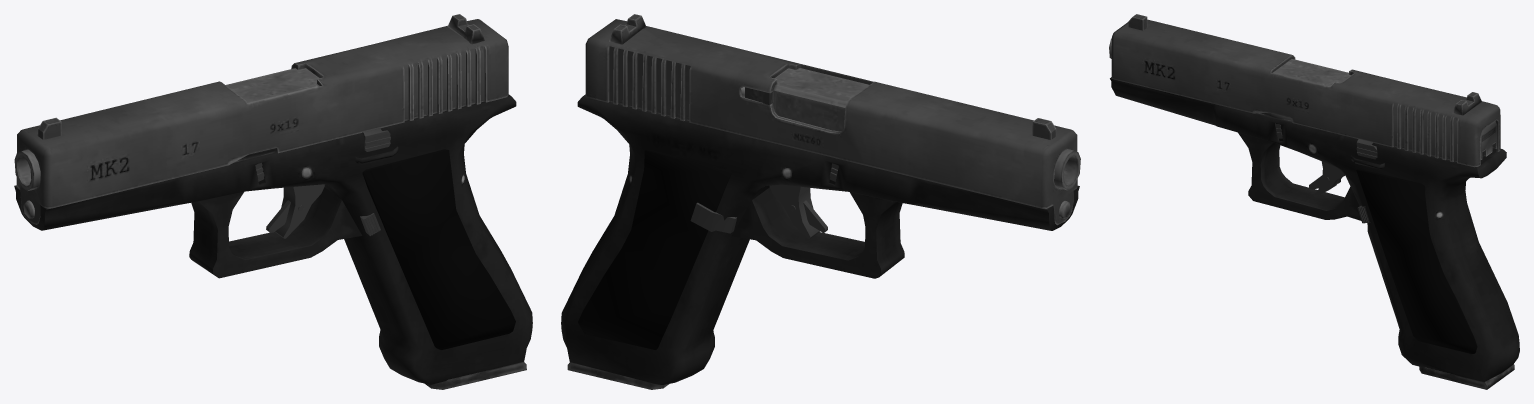
Rendered from pistol.glb.
3 renders of one model, left to right at view 1: azimuth 30°, elevation 25°; view 2: azimuth 150°, elevation 25°; view 3: azimuth 330°, elevation 25°, orthographic. The views are drawn at different scales.
Visible parts, largest first — view 1: Cube.005_9m2_0, Cube.005_9m1_0; view 2: Cube.005_9m2_0, Cube.005_9m1_0; view 3: Cube.005_9m2_0, Cube.005_9m1_0.
Boxes of the visible parts, x1=… form: Cube.005_9m2_0: x1=14, y1=14, x2=526, y2=389; Cube.005_9m1_0: x1=14, y1=94, x2=532, y2=384; Cube.005_9m2_0: x1=567, y1=14, x2=1080, y2=389; Cube.005_9m1_0: x1=561, y1=94, x2=1079, y2=384; Cube.005_9m2_0: x1=1109, y1=14, x2=1514, y2=389; Cube.005_9m1_0: x1=1110, y1=77, x2=1519, y2=381.
Bounding box in the file's own units: 2.4 × 1.58 × 0.3325.
Materials: 2 (2 with a texture image).
